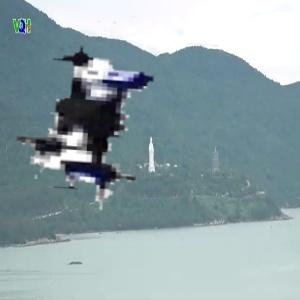drone: (13, 2, 251, 240)
